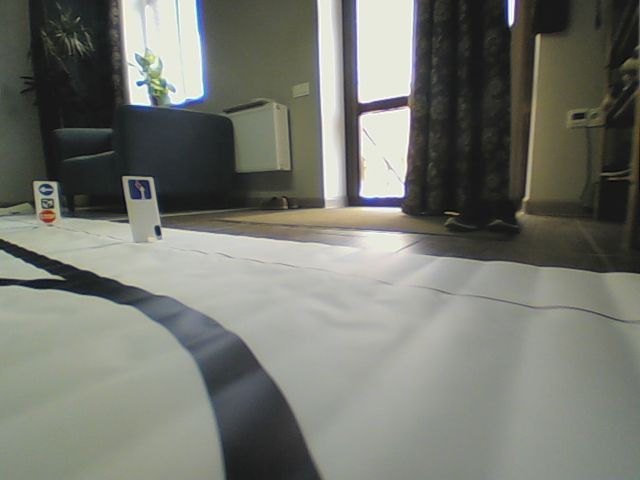priority_movement: (127, 178, 152, 200)
